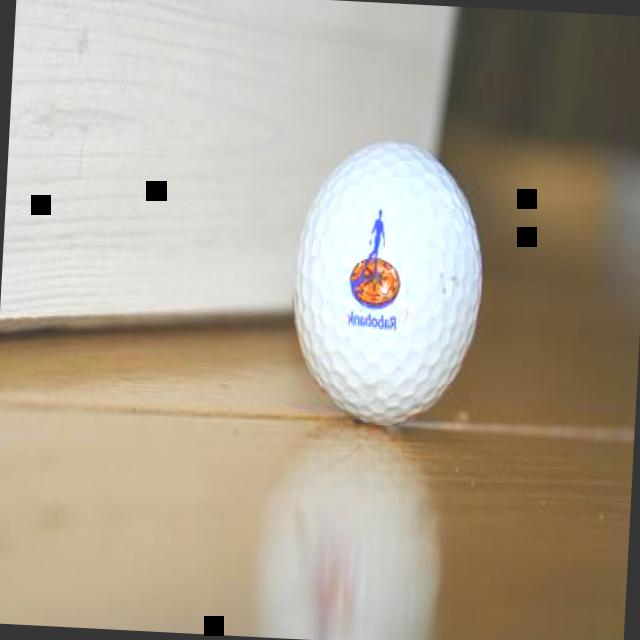golf ball: (270, 120, 498, 437)
